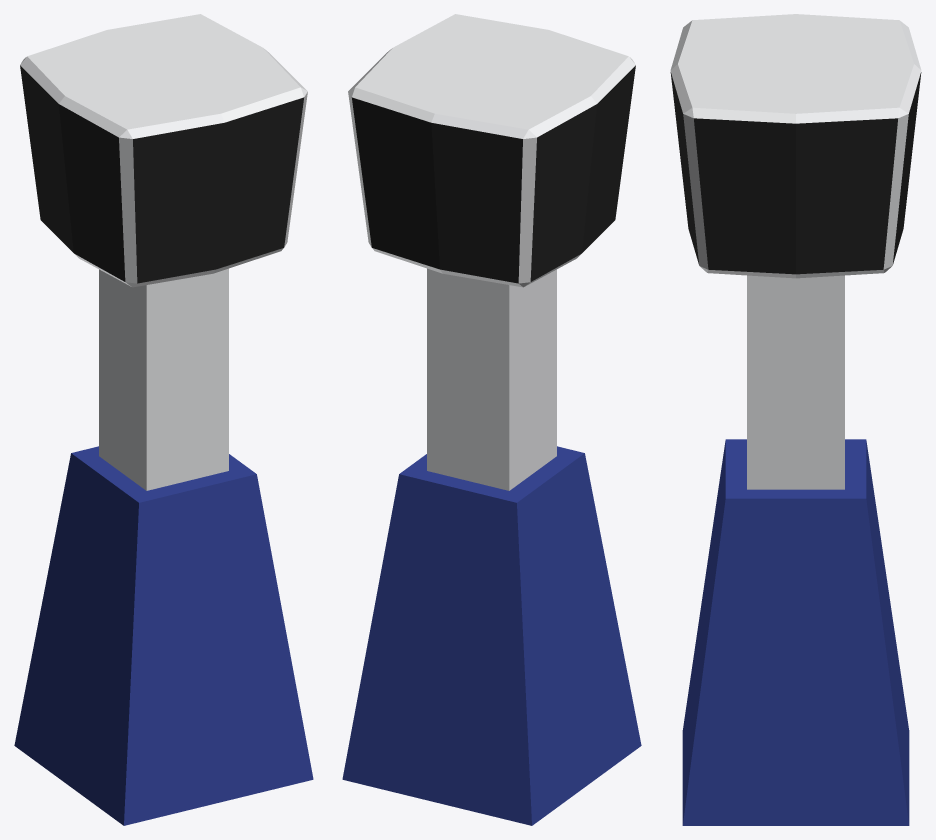
The model's file is big_screen.fbx.
3 views of the same model, side by side, from view 1: azimuth 30°, elevation 25°; view 2: azimuth 150°, elevation 25°; view 3: azimuth 270°, elevation 25° (orthographic). The views are drawn at different scales.
Visible parts, largest first — view 1: Cube; view 2: Cube; view 3: Cube.
Boxes of the visible parts, box(x1,y1,x2,y2) form: Cube: box(14, 14, 313, 825); Cube: box(342, 14, 641, 825); Cube: box(670, 14, 921, 825).
Bounding box in the file's own units: 170 × 533 × 170.
